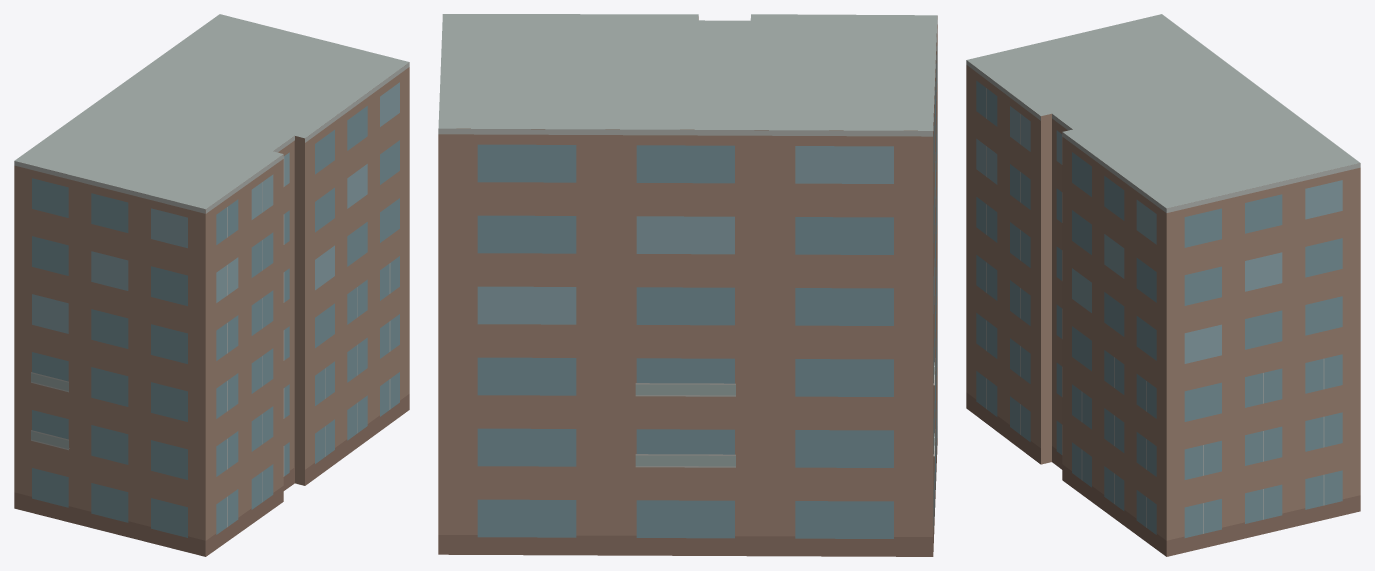
The model's file is survey-upis-33023483.glb.
3 views of the same model, side by side, from view 1: azimuth 30°, elevation 25°; view 2: azimuth 150°, elevation 25°; view 3: azimuth 270°, elevation 25° (orthographic). The views are drawn at different scales.
Visible parts, largest first — view 1: survey-upis-33023483.tmp; view 2: survey-upis-33023483.tmp; view 3: survey-upis-33023483.tmp.
Boxes of the visible parts, left/top/right/bottom form: survey-upis-33023483.tmp: left=14, top=14, right=409, bottom=556; survey-upis-33023483.tmp: left=438, top=14, right=937, bottom=556; survey-upis-33023483.tmp: left=966, top=14, right=1360, bottom=556.
Bounding box in the file's own units: 21.92 × 18.3 × 18.77.
